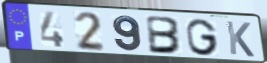2: (73, 10, 107, 52)
4: (40, 10, 66, 50)
9: (111, 14, 144, 53)
B: (146, 15, 184, 56)
G: (185, 17, 221, 57)
K: (224, 19, 256, 59)
